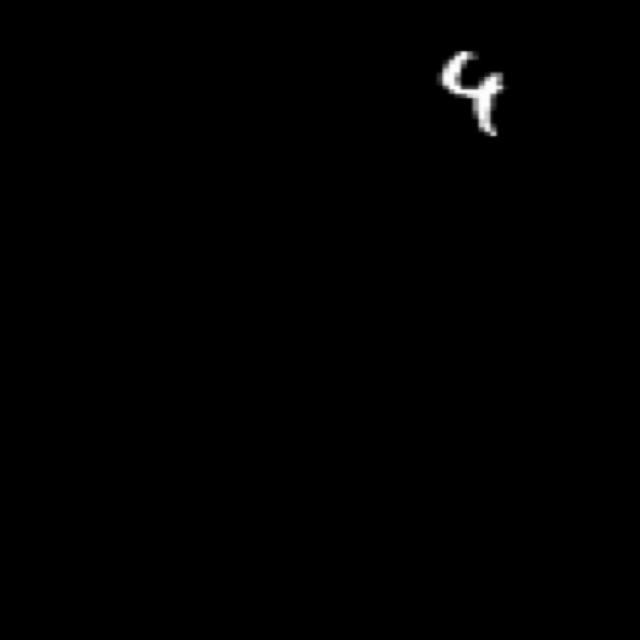four -4-: (428, 39, 524, 150)
